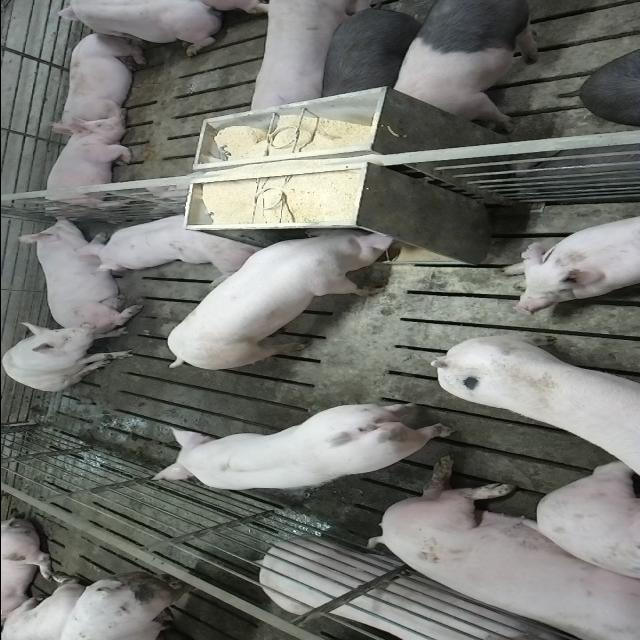Feeding: (164, 220, 402, 368)
Lateral_lying: (368, 457, 640, 638), (256, 538, 584, 640)
Sitting: (2, 320, 137, 391)
Standing: (426, 330, 638, 508), (146, 402, 461, 494), (384, 1, 548, 130), (244, 3, 366, 121), (317, 3, 418, 104)
Sternal_lying: (12, 215, 139, 326), (502, 206, 640, 308), (78, 210, 258, 274), (43, 2, 229, 56), (52, 31, 148, 130), (37, 120, 135, 214)
